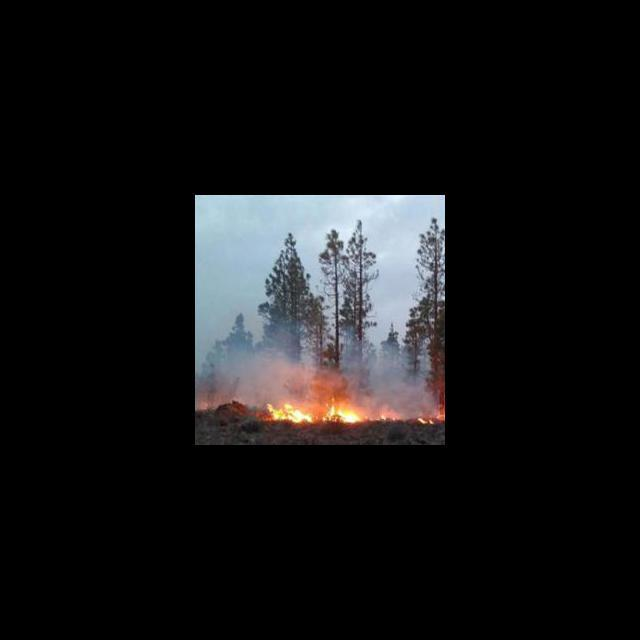Fire: (253, 402, 443, 426)
Smoke: (227, 354, 435, 399)
